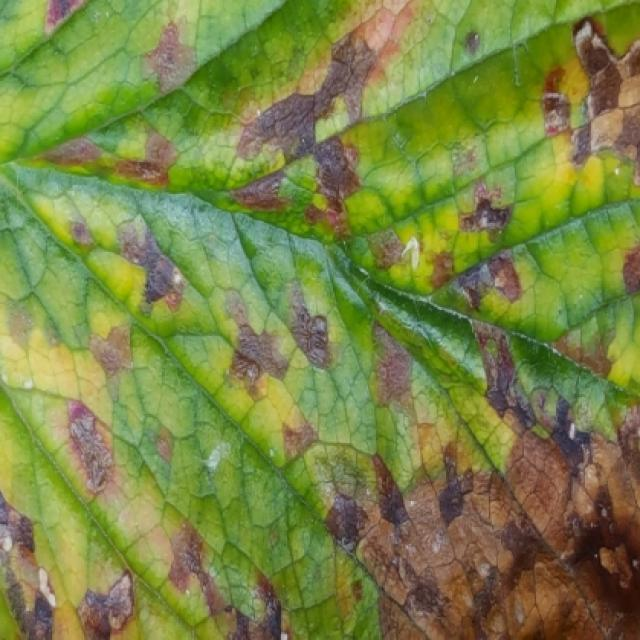Angular Leafspot: (0, 0, 638, 638)
